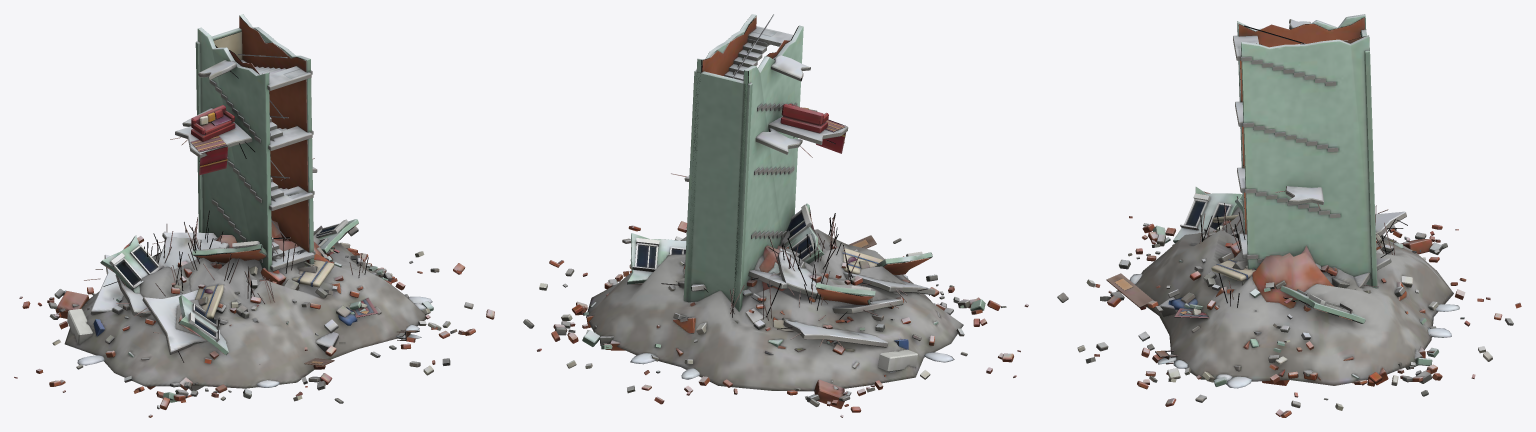
The model's file is bld_rubble_l.glb.
The picture shows the model from 3 angles, left to right: view 1: azimuth 30°, elevation 25°; view 2: azimuth 150°, elevation 25°; view 3: azimuth 270°, elevation 25°; orthographic projection. The views are drawn at different scales.
Visible parts, largest first — view 1: bld_rubble_l; view 2: bld_rubble_l; view 3: bld_rubble_l.
Part boxes in pixels (bbox=[...]): bld_rubble_l: bbox=[14, 14, 494, 417]; bld_rubble_l: bbox=[523, 14, 1028, 417]; bld_rubble_l: bbox=[1057, 14, 1521, 417].
Bounding box in the file's own units: 22.29 × 13.52 × 18.76.
Materials: 1 (1 with a texture image).
